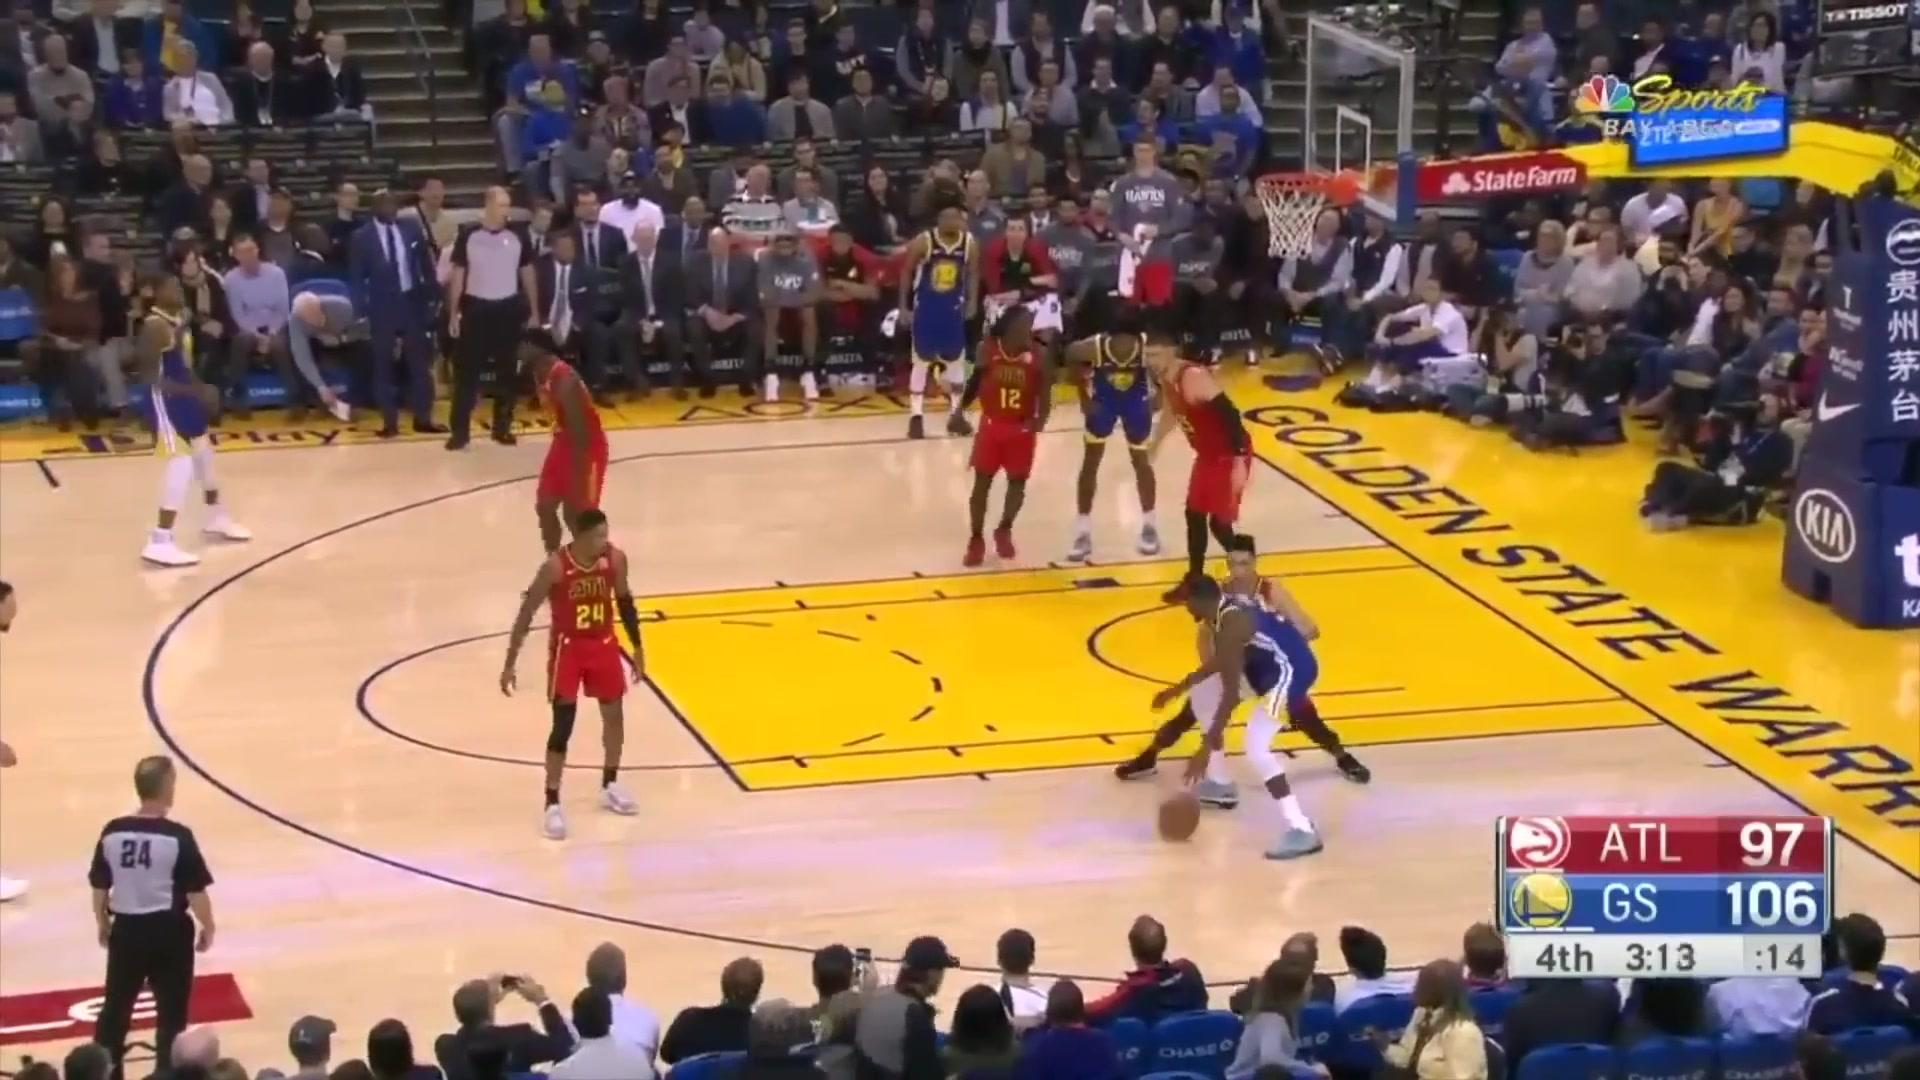foul: (1126, 527, 1389, 848)
